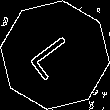L_NE: (25, 27, 85, 83)
